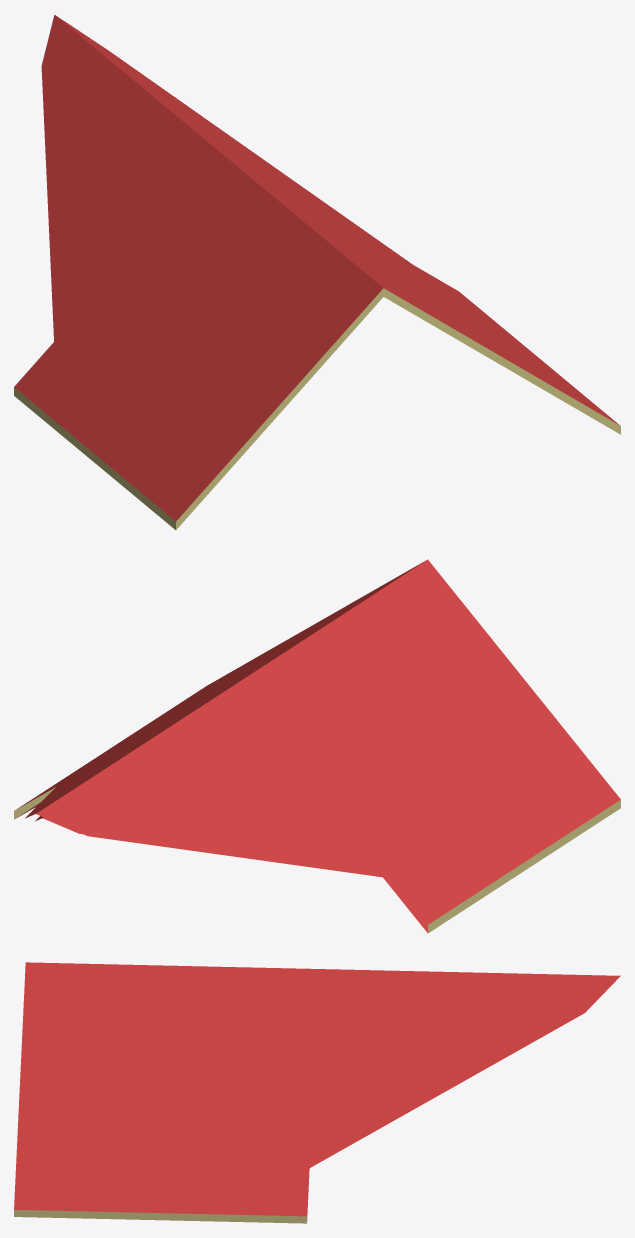
3 views of the same model, one above another, from view 1: azimuth 30°, elevation 25°; view 2: azimuth 150°, elevation 25°; view 3: azimuth 270°, elevation 25° (orthographic). The views are drawn at different scales.
Size of the model in its own units: 5.35 by 7.64 by 2.26.
